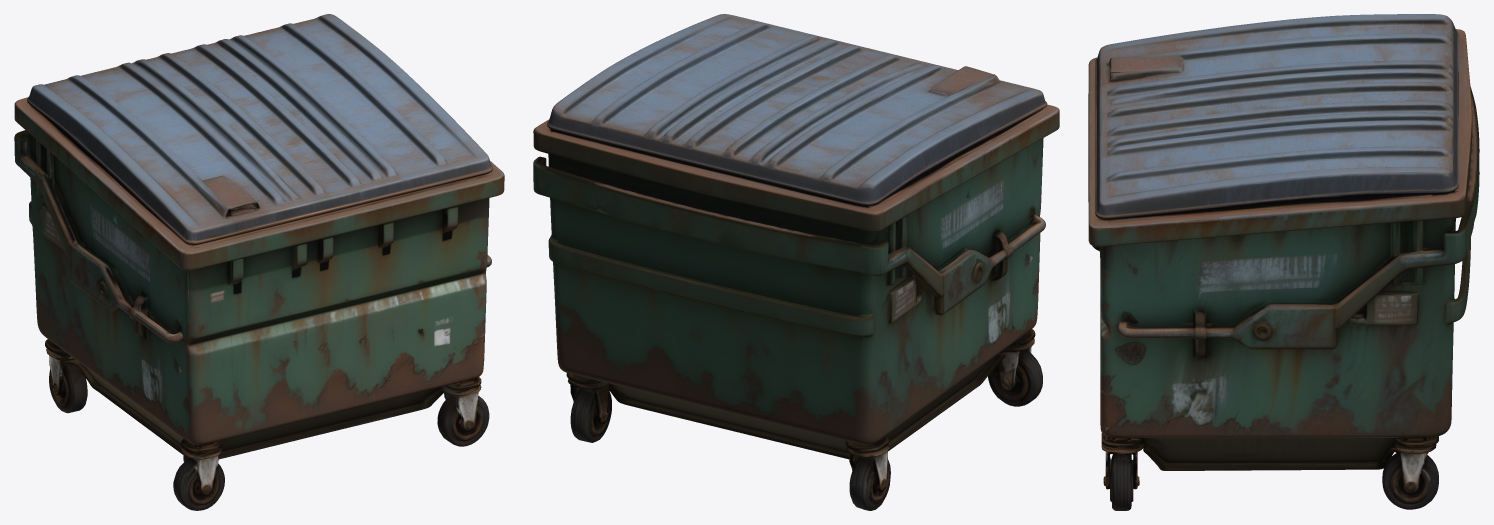
Rendered from steel_dumpster.glb.
3 renders of one model, left to right at view 1: azimuth 30°, elevation 25°; view 2: azimuth 150°, elevation 25°; view 3: azimuth 270°, elevation 25°, orthographic. The views are drawn at different scales.
Visible parts, largest first — view 1: node_0; view 2: node_0; view 3: node_0.
Boxes of the visible parts, <box> form: node_0: <box>14,14,504,510</box>; node_0: <box>533,14,1059,510</box>; node_0: <box>1088,14,1479,510</box>.
Bounding box in the file's own units: 0.7852 × 0.728 × 0.7443.
Materials: 1 (1 with a texture image).
